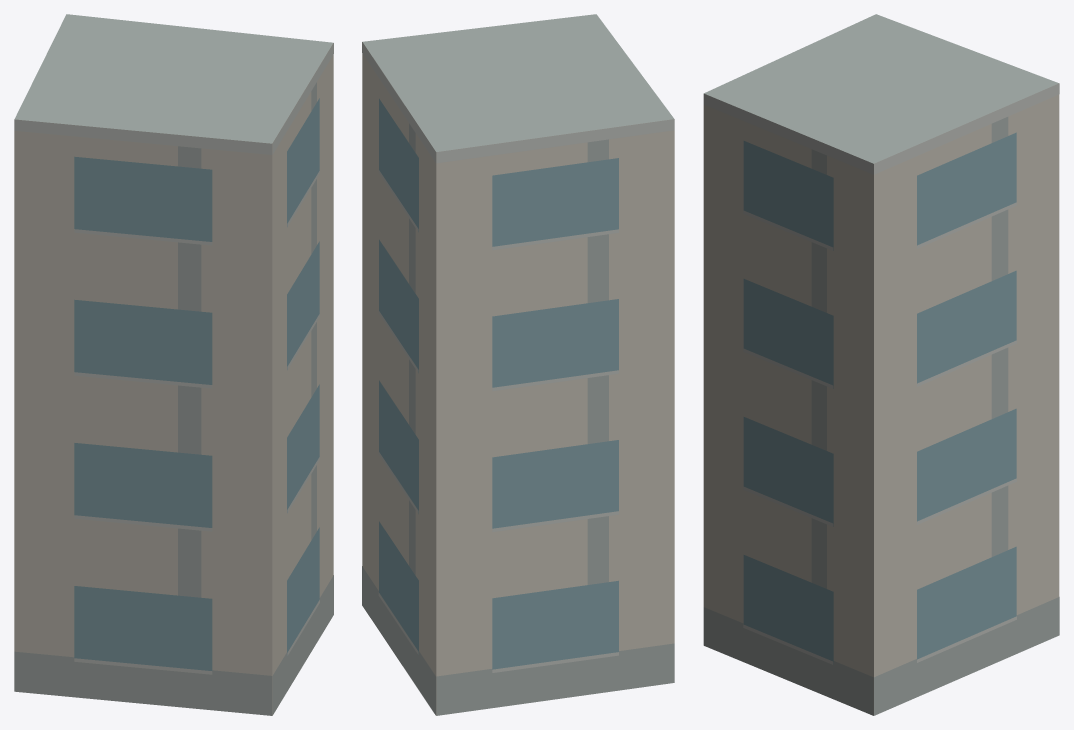
File: survey-upis-32522152.glb
3 views of the same model, side by side, from view 1: azimuth 30°, elevation 25°; view 2: azimuth 150°, elevation 25°; view 3: azimuth 270°, elevation 25° (orthographic). The views are drawn at different scales.
Visible parts, largest first — view 1: survey-upis-32522152.tmp; view 2: survey-upis-32522152.tmp; view 3: survey-upis-32522152.tmp.
Part boxes in pixels (<box>): survey-upis-32522152.tmp: <box>14,14,333,715</box>; survey-upis-32522152.tmp: <box>362,14,674,715</box>; survey-upis-32522152.tmp: <box>703,14,1059,715</box>.
Bounding box in the file's own units: 7.11 × 12.2 × 7.13.
